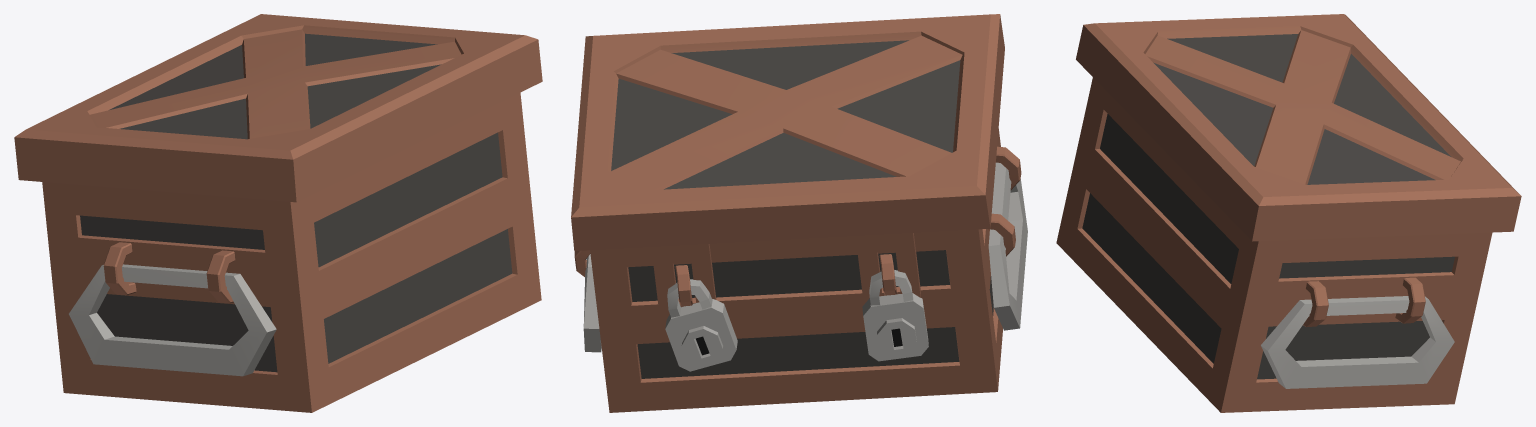
Rendered from questLockedBox.fbx.
The picture shows the model from 3 angles, left to right: view 1: azimuth 30°, elevation 25°; view 2: azimuth 150°, elevation 25°; view 3: azimuth 270°, elevation 25°; orthographic projection. The views are drawn at different scales.
Parts seen in each view (by area): view 1: questLockedBox; view 2: questLockedBox; view 3: questLockedBox.
Boxes of the visible parts, left/top/right/bottom form: questLockedBox: left=14, top=14, right=542, bottom=412; questLockedBox: left=571, top=14, right=1027, bottom=412; questLockedBox: left=1056, top=14, right=1521, bottom=412.
Size of the model in its own units: 1.61 by 1.06 by 1.53.
